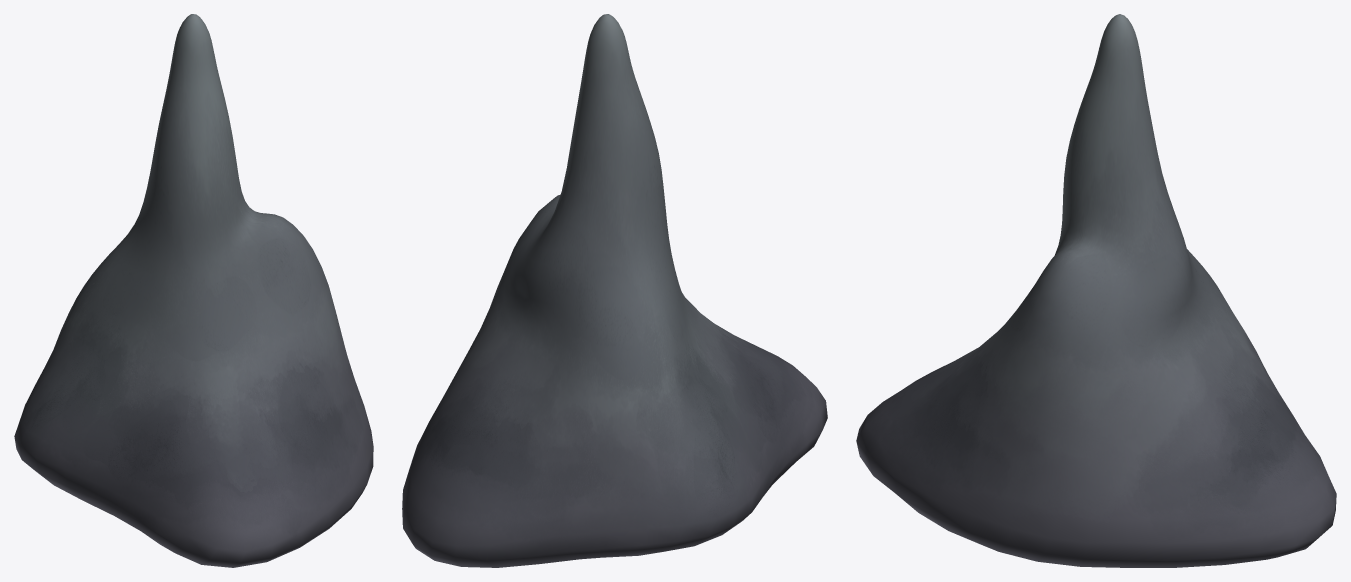
The model's file is Stalac1.fbx.
3 views of the same model, side by side, from view 1: azimuth 30°, elevation 25°; view 2: azimuth 150°, elevation 25°; view 3: azimuth 270°, elevation 25° (orthographic). The views are drawn at different scales.
Visible parts, largest first — view 1: Stalac1; view 2: Stalac1; view 3: Stalac1.
Boxes of the visible parts, left/top/right/bottom form: Stalac1: left=14, top=14, right=373, bottom=567; Stalac1: left=402, top=14, right=827, bottom=567; Stalac1: left=856, top=14, right=1336, bottom=567.
Size of the model in its own units: 128 by 190 by 166.
Materials: 1 (1 with a texture image).
